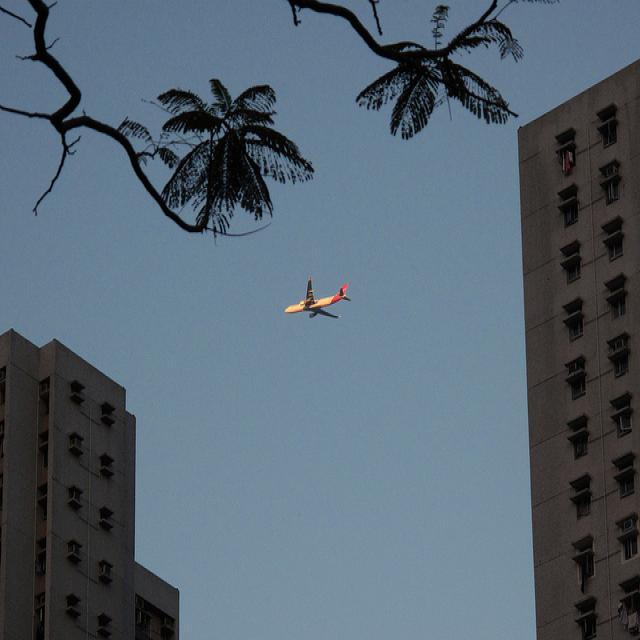airplane: (283, 274, 354, 322)
